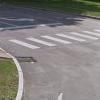Crosswalk: (7, 27, 99, 60)
